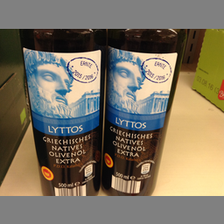oil: (18, 28, 104, 196), (103, 29, 187, 196)
